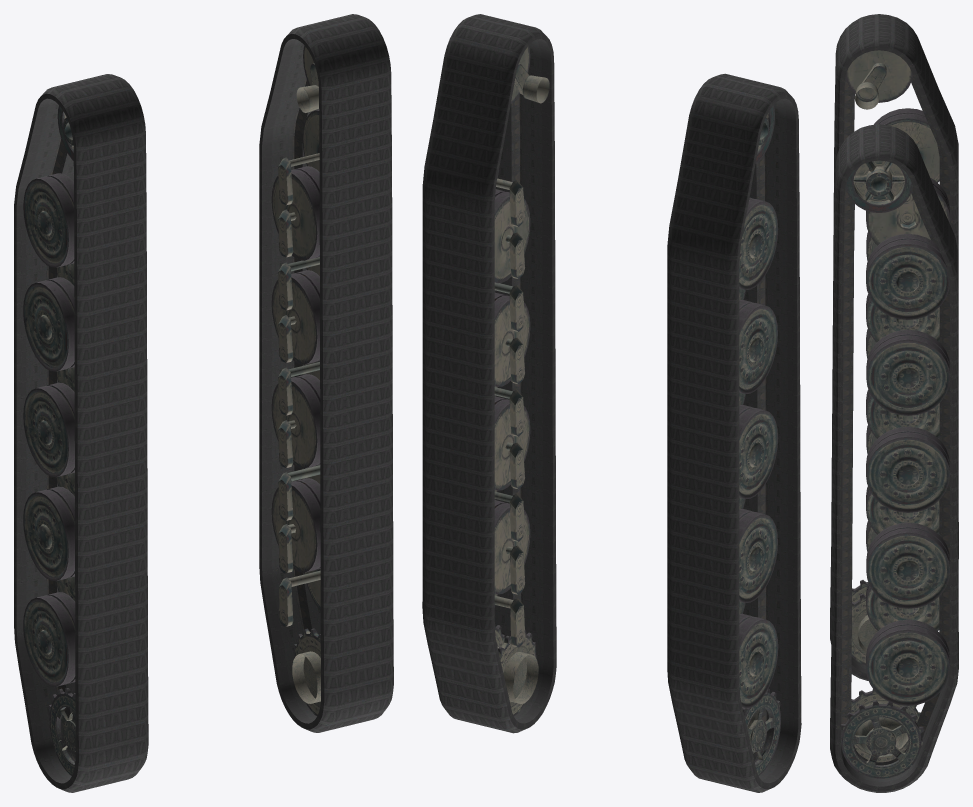
The model's file is Chassis.glb.
3 views of the same model, side by side, from view 1: azimuth 30°, elevation 25°; view 2: azimuth 150°, elevation 25°; view 3: azimuth 270°, elevation 25° (orthographic). The views are drawn at different scales.
Visible parts, largest first — view 1: set_1_group_0, set_0_group_0, set_2_group_0, set_3_group_0; view 2: set_1_group_0, set_0_group_0, set_2_group_0, set_3_group_0; view 3: set_3_group_0, set_1_group_0, set_0_group_0, set_2_group_0.
Part boxes in pixels (x1,y1,x2,y2): set_1_group_0: (259, 14, 393, 732); set_0_group_0: (14, 74, 148, 792); set_2_group_0: (23, 105, 75, 775); set_3_group_0: (271, 45, 320, 715); set_1_group_0: (422, 14, 556, 733); set_0_group_0: (667, 73, 801, 792); set_2_group_0: (739, 105, 780, 775); set_3_group_0: (494, 45, 549, 716); set_3_group_0: (841, 160, 949, 778); set_1_group_0: (830, 124, 958, 792); set_0_group_0: (830, 14, 958, 680); set_2_group_0: (845, 50, 949, 665).
Size of the model in its own units: 3.38 by 7.16 by 1.3.
Materials: 4 (4 with a texture image).
